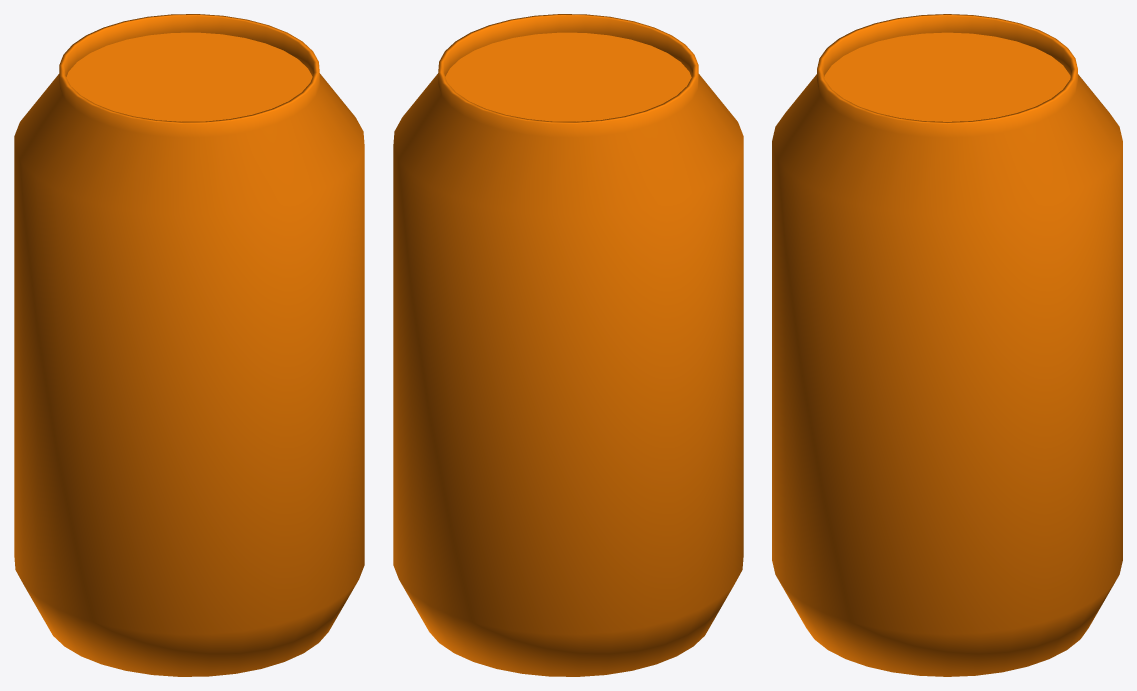
The model's file is orange_can.fbx.
3 renders of one model, left to right at view 1: azimuth 30°, elevation 25°; view 2: azimuth 150°, elevation 25°; view 3: azimuth 270°, elevation 25°, orthographic.
Visible parts, largest first — view 1: Cylinder; view 2: Cylinder; view 3: Cylinder.
Part boxes in pixels (left/top/right/bottom): Cylinder: left=14, top=14, right=364, bottom=676; Cylinder: left=393, top=14, right=743, bottom=676; Cylinder: left=772, top=14, right=1122, bottom=676.
Size of the model in its own units: 200 by 344 by 200.
